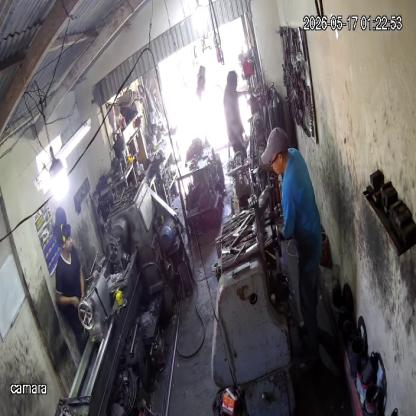lentes: (268, 150, 280, 166)
